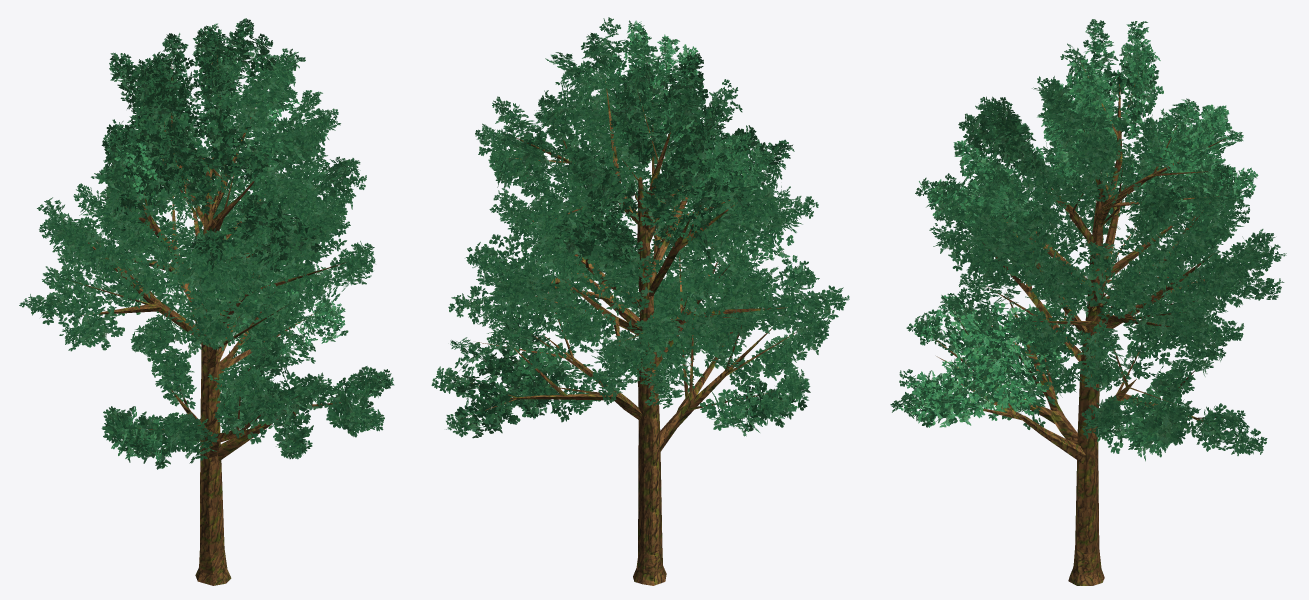
File: Shinees_hetre_2.fbx
The picture shows the model from 3 angles, left to right: view 1: azimuth 30°, elevation 25°; view 2: azimuth 150°, elevation 25°; view 3: azimuth 270°, elevation 25°; orthographic projection.
Parts seen in each view (by area): view 1: Shiness_hetre_2; view 2: Shiness_hetre_2; view 3: Shiness_hetre_2.
Part boxes in pixels (x1,y1,x2,y2): Shiness_hetre_2: (19, 18, 394, 585); Shiness_hetre_2: (431, 17, 849, 585); Shiness_hetre_2: (890, 19, 1286, 585).
Size of what is drawn, in the model's own units: 53.39 by 76.35 by 52.63.
